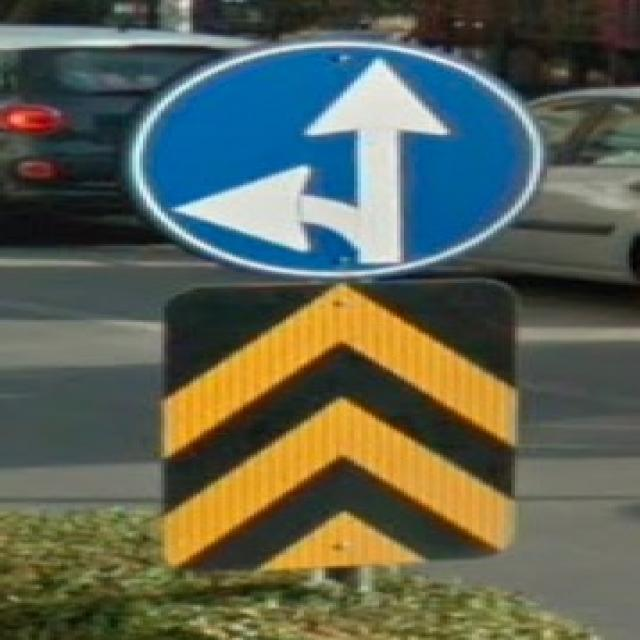Straight or Left: (128, 39, 543, 277)
